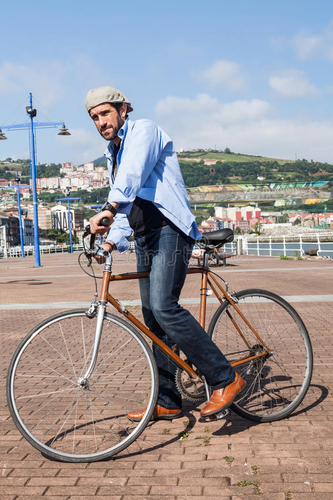bikerider: (22, 83, 315, 463)
